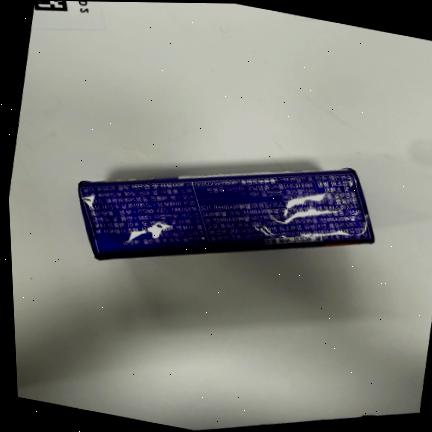cracker_ace: (79, 169, 374, 260)
